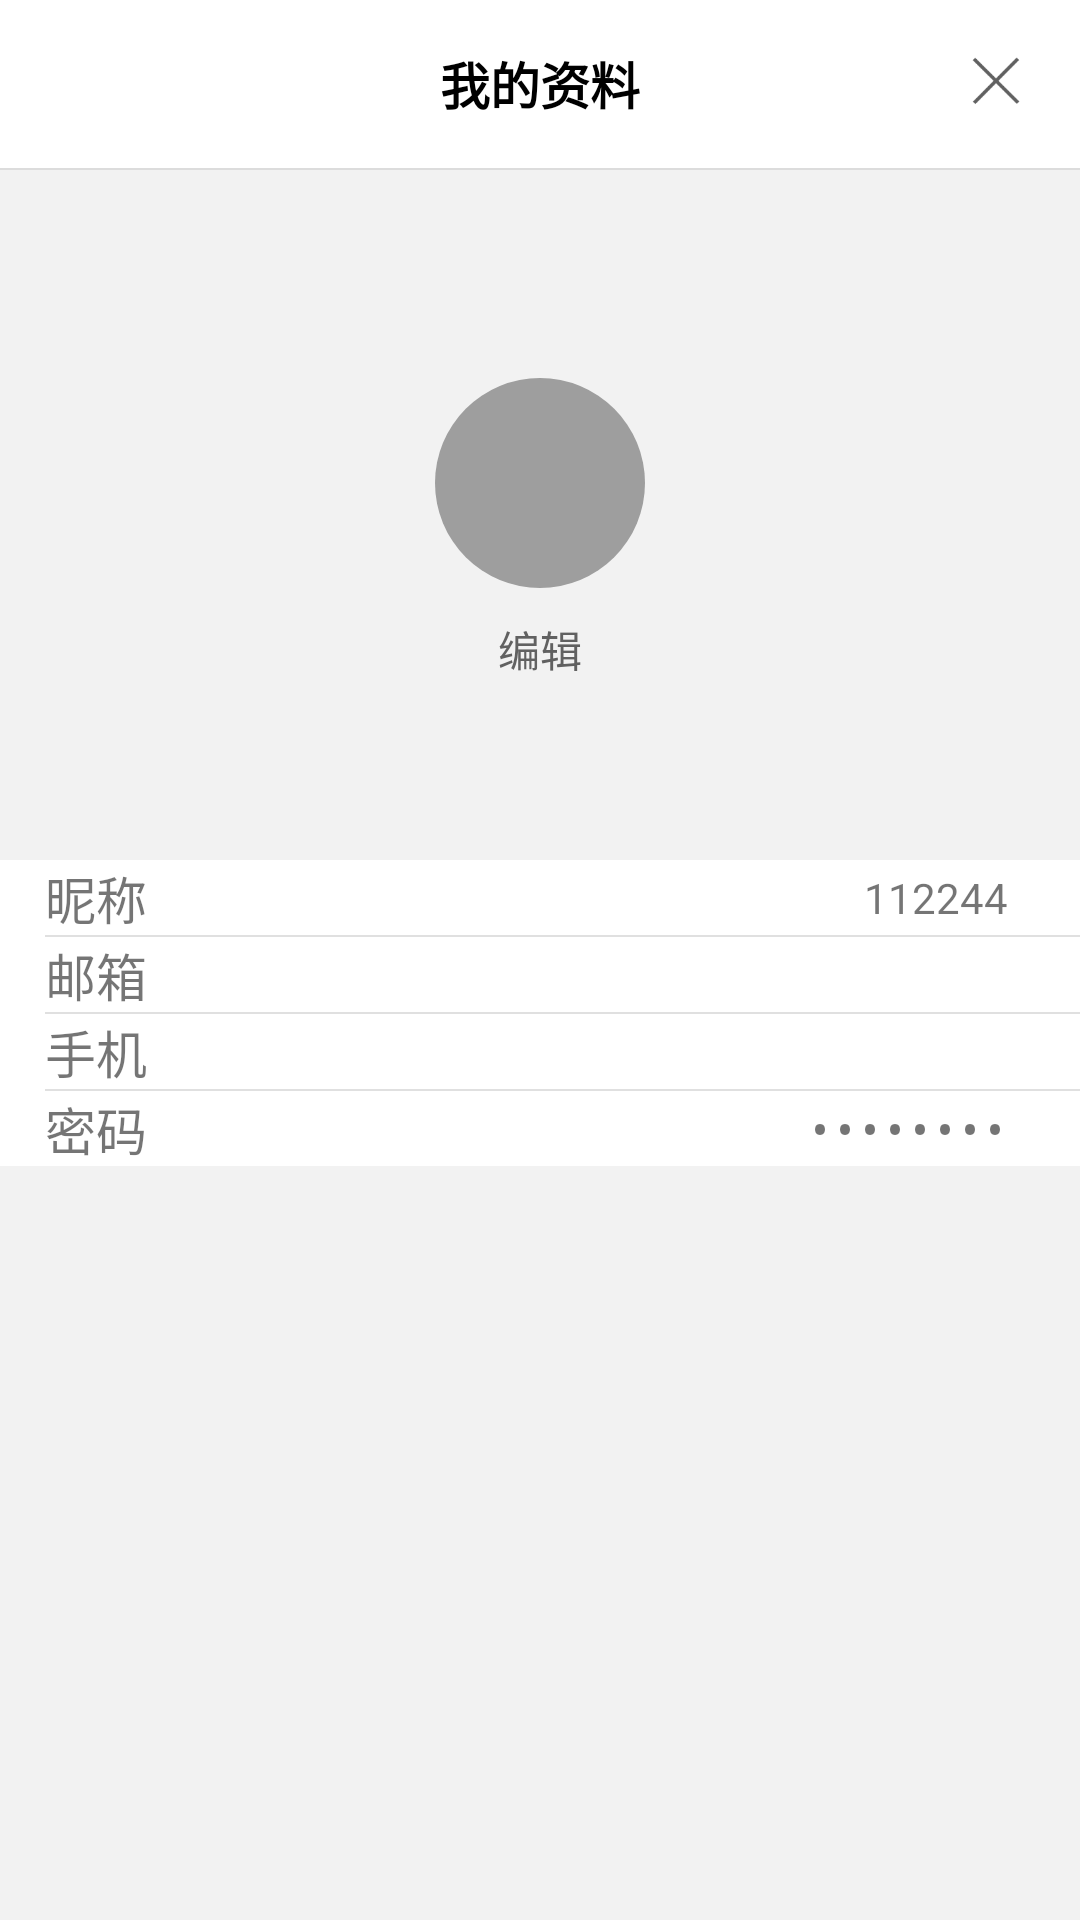

Named icons in this screenshot (1080 × 1920) and their centers, (x,y):
wrong: (996,81)
